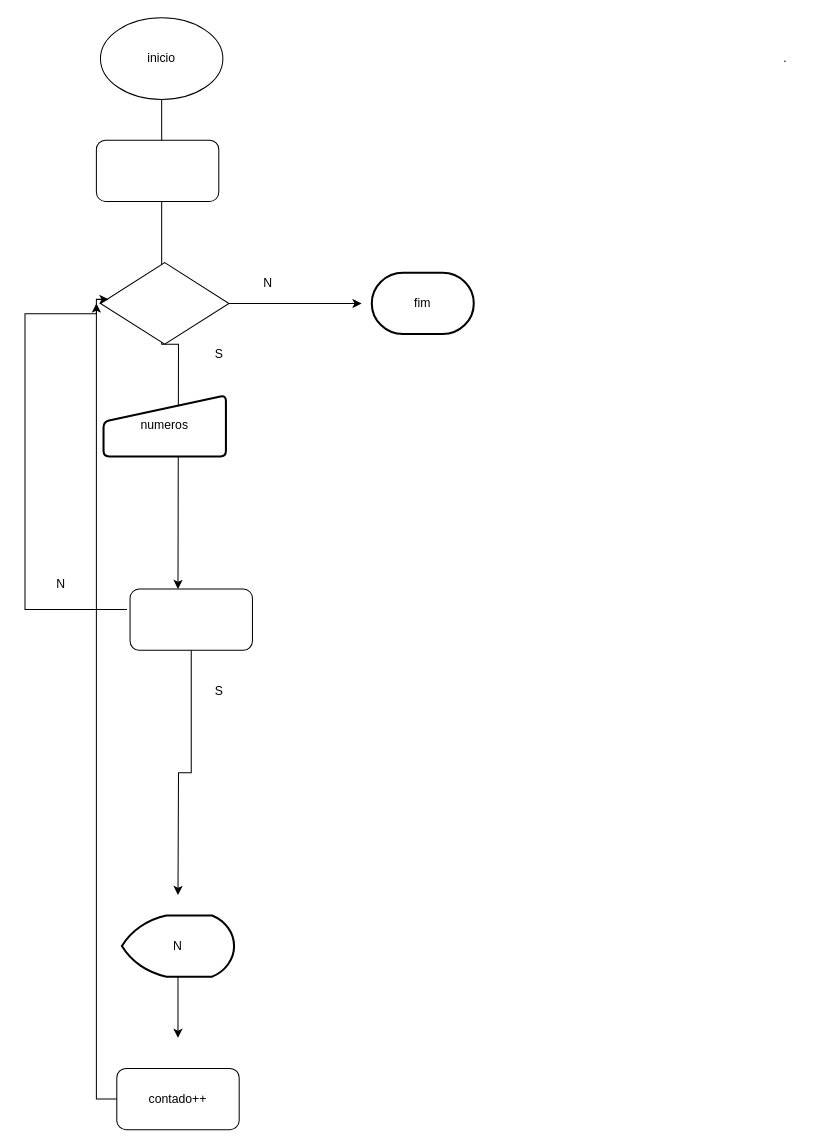
Some shapes in this 818 by 1148 pixel diagram are drawn without their labels. Each missing label, with the centre of its shape:
"contador" goes at point 157,170.
"contador<10" goes at point 164,303.
"N=numeros *10" goes at point 190,619.
